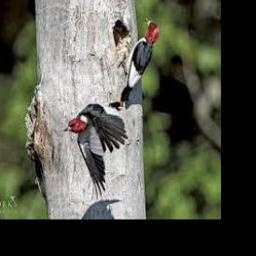Woodpecker: (64, 104, 127, 198), (119, 17, 158, 101)
